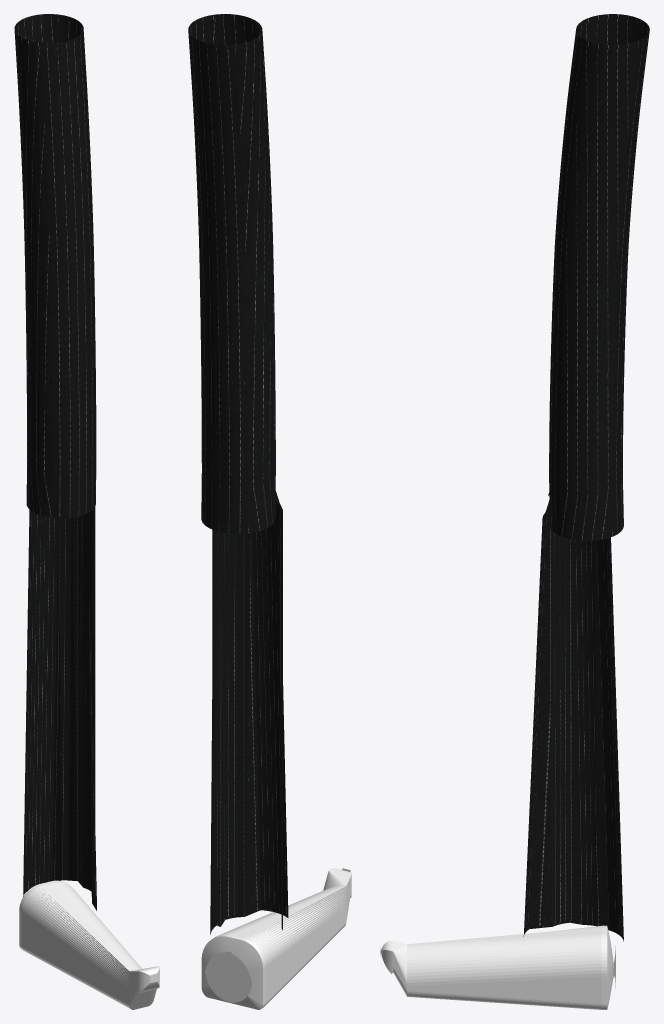
The model's file is piernaJack.obj.
The picture shows the model from 3 angles, left to right: view 1: azimuth 30°, elevation 25°; view 2: azimuth 150°, elevation 25°; view 3: azimuth 270°, elevation 25°; orthographic projection. The views are drawn at different scales.
Parts seen in each view (by area): view 1: pie_Cube.001_traje, pie_Cube.001_Material.001; view 2: pie_Cube.001_traje, pie_Cube.001_Material.001; view 3: pie_Cube.001_traje, pie_Cube.001_Material.001.
Boxes of the visible parts, x1,y1,x2,y2 form: pie_Cube.001_traje: [14, 14, 96, 910]; pie_Cube.001_Material.001: [19, 880, 159, 1009]; pie_Cube.001_traje: [188, 14, 288, 934]; pie_Cube.001_Material.001: [201, 868, 351, 1009]; pie_Cube.001_traje: [523, 14, 649, 941]; pie_Cube.001_Material.001: [380, 925, 615, 1009].
Size of the model in its own units: 1.85 by 25.75 by 6.49.
